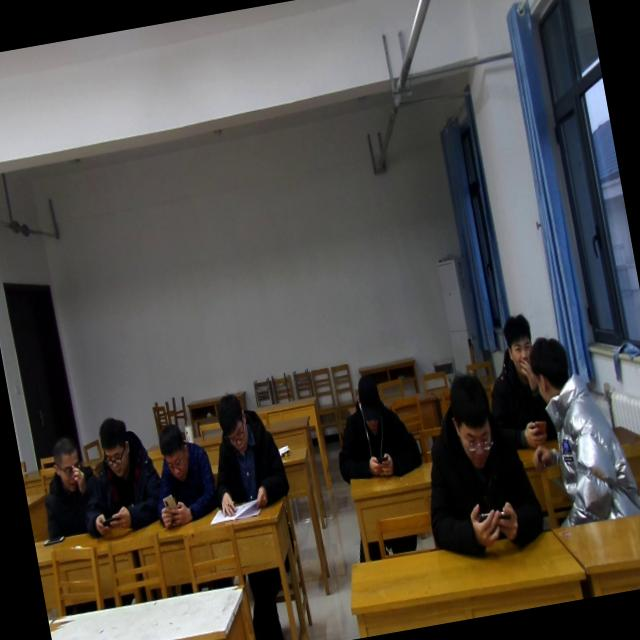down: (440, 364, 501, 474), (210, 387, 256, 455), (92, 412, 135, 482), (348, 366, 387, 436), (151, 420, 191, 485)
lookup: (495, 307, 540, 385)
sit: (404, 360, 549, 570), (510, 324, 640, 529), (68, 412, 170, 540), (474, 306, 564, 449), (198, 384, 292, 518), (322, 366, 424, 488), (140, 414, 222, 532), (30, 424, 110, 540)
